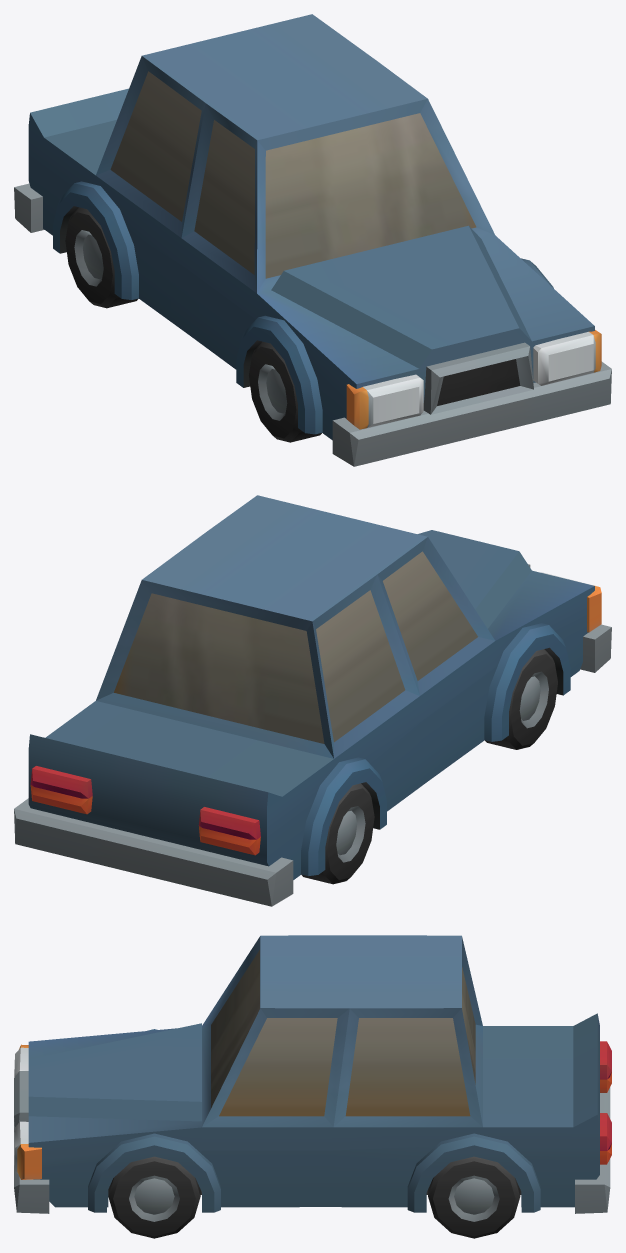
The model's file is kkcity.car_sedan.glb.
3 renders of one model, top to bottom at view 1: azimuth 30°, elevation 25°; view 2: azimuth 150°, elevation 25°; view 3: azimuth 270°, elevation 25°, orthographic. The views are drawn at different scales.
Parts seen in each view (by area): view 1: Cube.13729, car_sedan_wheel_rear_right, car_sedan_wheel_front_right; view 2: Cube.13729, car_sedan_wheel_rear_right, car_sedan_wheel_front_right; view 3: Cube.13729, car_sedan_wheel_front_left, car_sedan_wheel_rear_left.
Boxes of the visible parts, left/top/right/bottom form: Cube.13729: left=14, top=14, right=611, bottom=466; car_sedan_wheel_rear_right: left=65, top=207, right=138, bottom=308; car_sedan_wheel_front_right: left=249, top=341, right=321, bottom=442; Cube.13729: left=14, top=495, right=611, bottom=906; car_sedan_wheel_rear_right: left=301, top=783, right=374, bottom=884; car_sedan_wheel_front_right: left=485, top=649, right=557, bottom=749; Cube.13729: left=14, top=935, right=611, bottom=1213; car_sedan_wheel_front_left: left=108, top=1156, right=200, bottom=1238; car_sedan_wheel_rear_left: left=428, top=1156, right=520, bottom=1238.
Size of the model in its own units: 2.01 by 1.77 by 4.5.
Materials: 1 (1 with a texture image).
